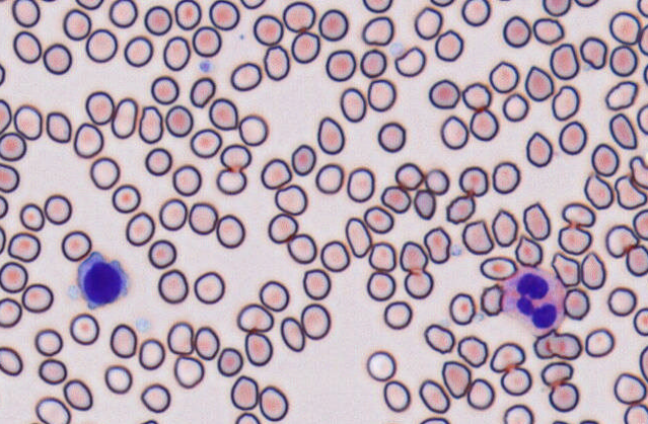GRAN: (504, 269, 564, 335)
LYM: (76, 256, 130, 310)
PLT: (199, 59, 215, 73), (68, 286, 81, 301), (136, 318, 149, 333)
RBC: (316, 116, 345, 154), (613, 372, 646, 405), (418, 379, 450, 413), (193, 270, 225, 304), (85, 28, 117, 62), (557, 224, 592, 255), (157, 268, 188, 303), (300, 303, 330, 339), (73, 122, 103, 158), (258, 385, 288, 421), (551, 84, 580, 121), (111, 97, 137, 138), (282, 0, 315, 32), (274, 183, 307, 215), (609, 11, 640, 45), (13, 104, 42, 140), (346, 166, 375, 202), (173, 355, 204, 388), (89, 156, 120, 189), (488, 60, 519, 93), (457, 335, 488, 368), (125, 211, 154, 246), (558, 120, 587, 155), (162, 35, 190, 71), (525, 131, 553, 167), (428, 78, 460, 109), (423, 323, 455, 354), (260, 157, 291, 189), (325, 49, 356, 81), (238, 113, 268, 146), (69, 312, 99, 345), (7, 232, 40, 262), (318, 8, 348, 41), (208, 97, 238, 130), (580, 251, 606, 289), (216, 214, 245, 248), (85, 90, 114, 124), (109, 323, 137, 358), (230, 375, 258, 410), (35, 396, 71, 423), (258, 280, 289, 311), (252, 14, 283, 45), (500, 366, 532, 396), (458, 165, 488, 197), (190, 128, 222, 158), (320, 240, 350, 272), (63, 378, 93, 410), (42, 42, 72, 74), (123, 35, 153, 67), (466, 377, 495, 410), (514, 234, 543, 267), (188, 201, 217, 234), (491, 161, 520, 194), (367, 78, 396, 111), (244, 332, 272, 366), (166, 321, 194, 355), (440, 115, 468, 149), (479, 255, 517, 280), (339, 87, 366, 122), (263, 45, 290, 80), (548, 382, 579, 412), (267, 213, 298, 243), (61, 230, 91, 261), (287, 233, 317, 264), (366, 350, 396, 381), (208, 0, 239, 30), (140, 382, 170, 413), (230, 61, 261, 91), (469, 109, 498, 141), (158, 198, 187, 230), (21, 283, 53, 312), (62, 8, 91, 40), (172, 164, 201, 196), (291, 31, 320, 63), (434, 29, 463, 61), (192, 25, 221, 57), (502, 15, 531, 47), (302, 268, 331, 300), (315, 162, 344, 194), (165, 104, 193, 137), (591, 143, 619, 176), (448, 292, 476, 325), (13, 30, 41, 63), (403, 269, 433, 299), (366, 271, 396, 301), (461, 81, 491, 111), (445, 194, 475, 224), (607, 286, 637, 316), (584, 327, 614, 357), (43, 193, 72, 224), (377, 121, 406, 152), (399, 240, 427, 272), (0, 261, 28, 293), (382, 380, 410, 412), (609, 45, 637, 77), (563, 287, 590, 320), (280, 316, 305, 351), (194, 325, 219, 360), (111, 183, 140, 213), (363, 205, 394, 233), (380, 185, 411, 213), (220, 143, 251, 171), (138, 338, 165, 370), (532, 17, 564, 44), (383, 300, 412, 329), (150, 75, 179, 104), (216, 167, 246, 195), (104, 364, 132, 394), (394, 162, 424, 190), (368, 241, 396, 271), (144, 5, 172, 35), (359, 48, 387, 78), (45, 111, 71, 143), (148, 239, 176, 268), (108, 0, 137, 28), (144, 147, 172, 176), (34, 328, 63, 356), (502, 92, 529, 122), (174, 0, 201, 30), (291, 143, 316, 175), (11, 0, 40, 27), (461, 0, 491, 26), (0, 132, 26, 161), (217, 347, 243, 376), (38, 358, 67, 384), (19, 202, 44, 231), (625, 244, 647, 276), (413, 189, 436, 219), (0, 346, 23, 376), (424, 168, 449, 195), (0, 297, 22, 327), (502, 403, 534, 423), (0, 162, 19, 192), (623, 403, 647, 423), (632, 208, 647, 240), (542, 0, 571, 16), (633, 307, 647, 336), (362, 0, 392, 13), (0, 98, 11, 133), (636, 103, 647, 135), (639, 345, 647, 382), (234, 412, 260, 423), (75, 0, 103, 10), (638, 24, 647, 55), (240, 0, 265, 9), (419, 416, 449, 423), (0, 194, 8, 218), (636, 0, 647, 17), (574, 0, 599, 7), (429, 0, 454, 7), (0, 226, 6, 254), (643, 63, 648, 85), (0, 63, 5, 85), (578, 418, 599, 423), (140, 418, 158, 423), (551, 419, 570, 423), (40, 0, 59, 2)
Schistocyte: (461, 220, 497, 256), (346, 217, 373, 261), (550, 43, 582, 80), (423, 227, 453, 265), (613, 176, 647, 209), (605, 224, 639, 257), (395, 44, 427, 79), (609, 114, 640, 150), (525, 65, 555, 102), (489, 341, 526, 371), (583, 175, 615, 209), (523, 203, 553, 239), (578, 35, 608, 70), (239, 303, 274, 333), (547, 332, 583, 361), (605, 81, 639, 111), (552, 254, 581, 289), (492, 209, 518, 248), (363, 16, 395, 47), (541, 360, 576, 387), (140, 105, 164, 144), (530, 328, 559, 360), (562, 202, 597, 228), (416, 8, 443, 40), (190, 79, 216, 110), (482, 283, 505, 318), (629, 156, 648, 196)
